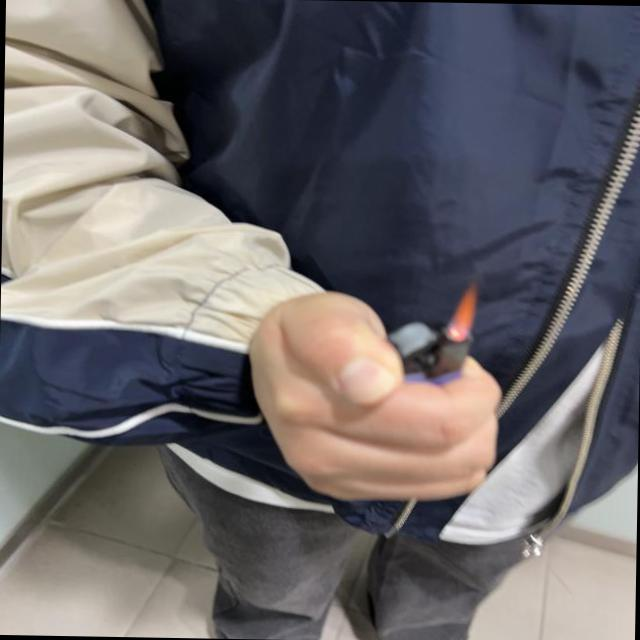Fire: (444, 275, 480, 341)
